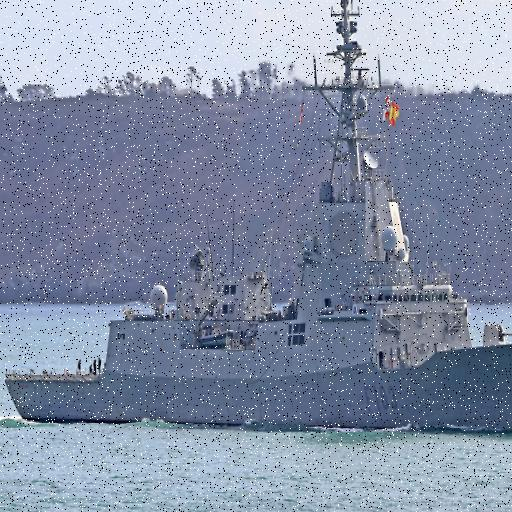Fragata: (6, 1, 512, 440)
